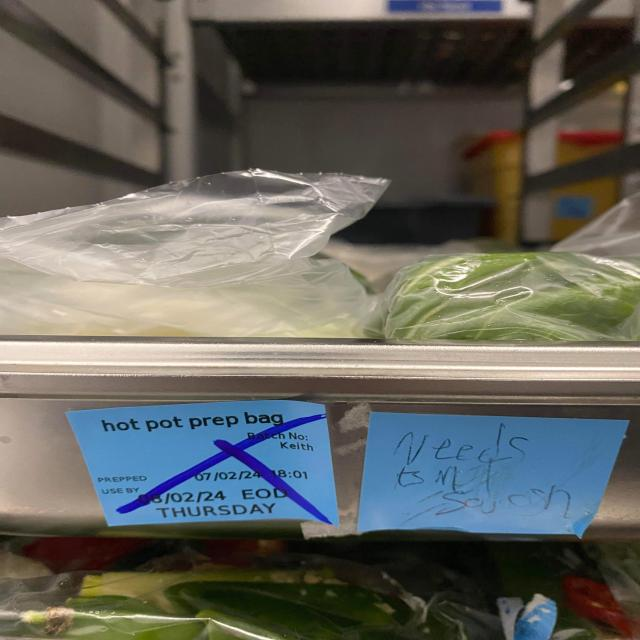product-labels: (358, 411, 629, 542), (66, 399, 338, 526)
